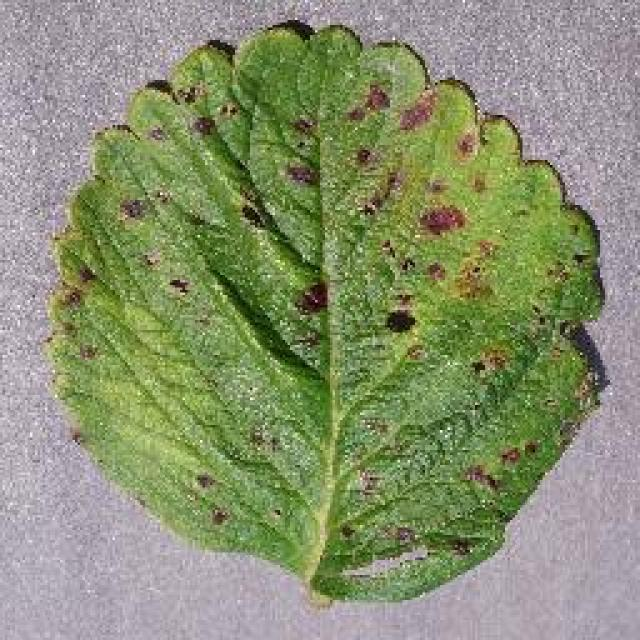Strawberry leaf scorch: (147, 95, 465, 407)
